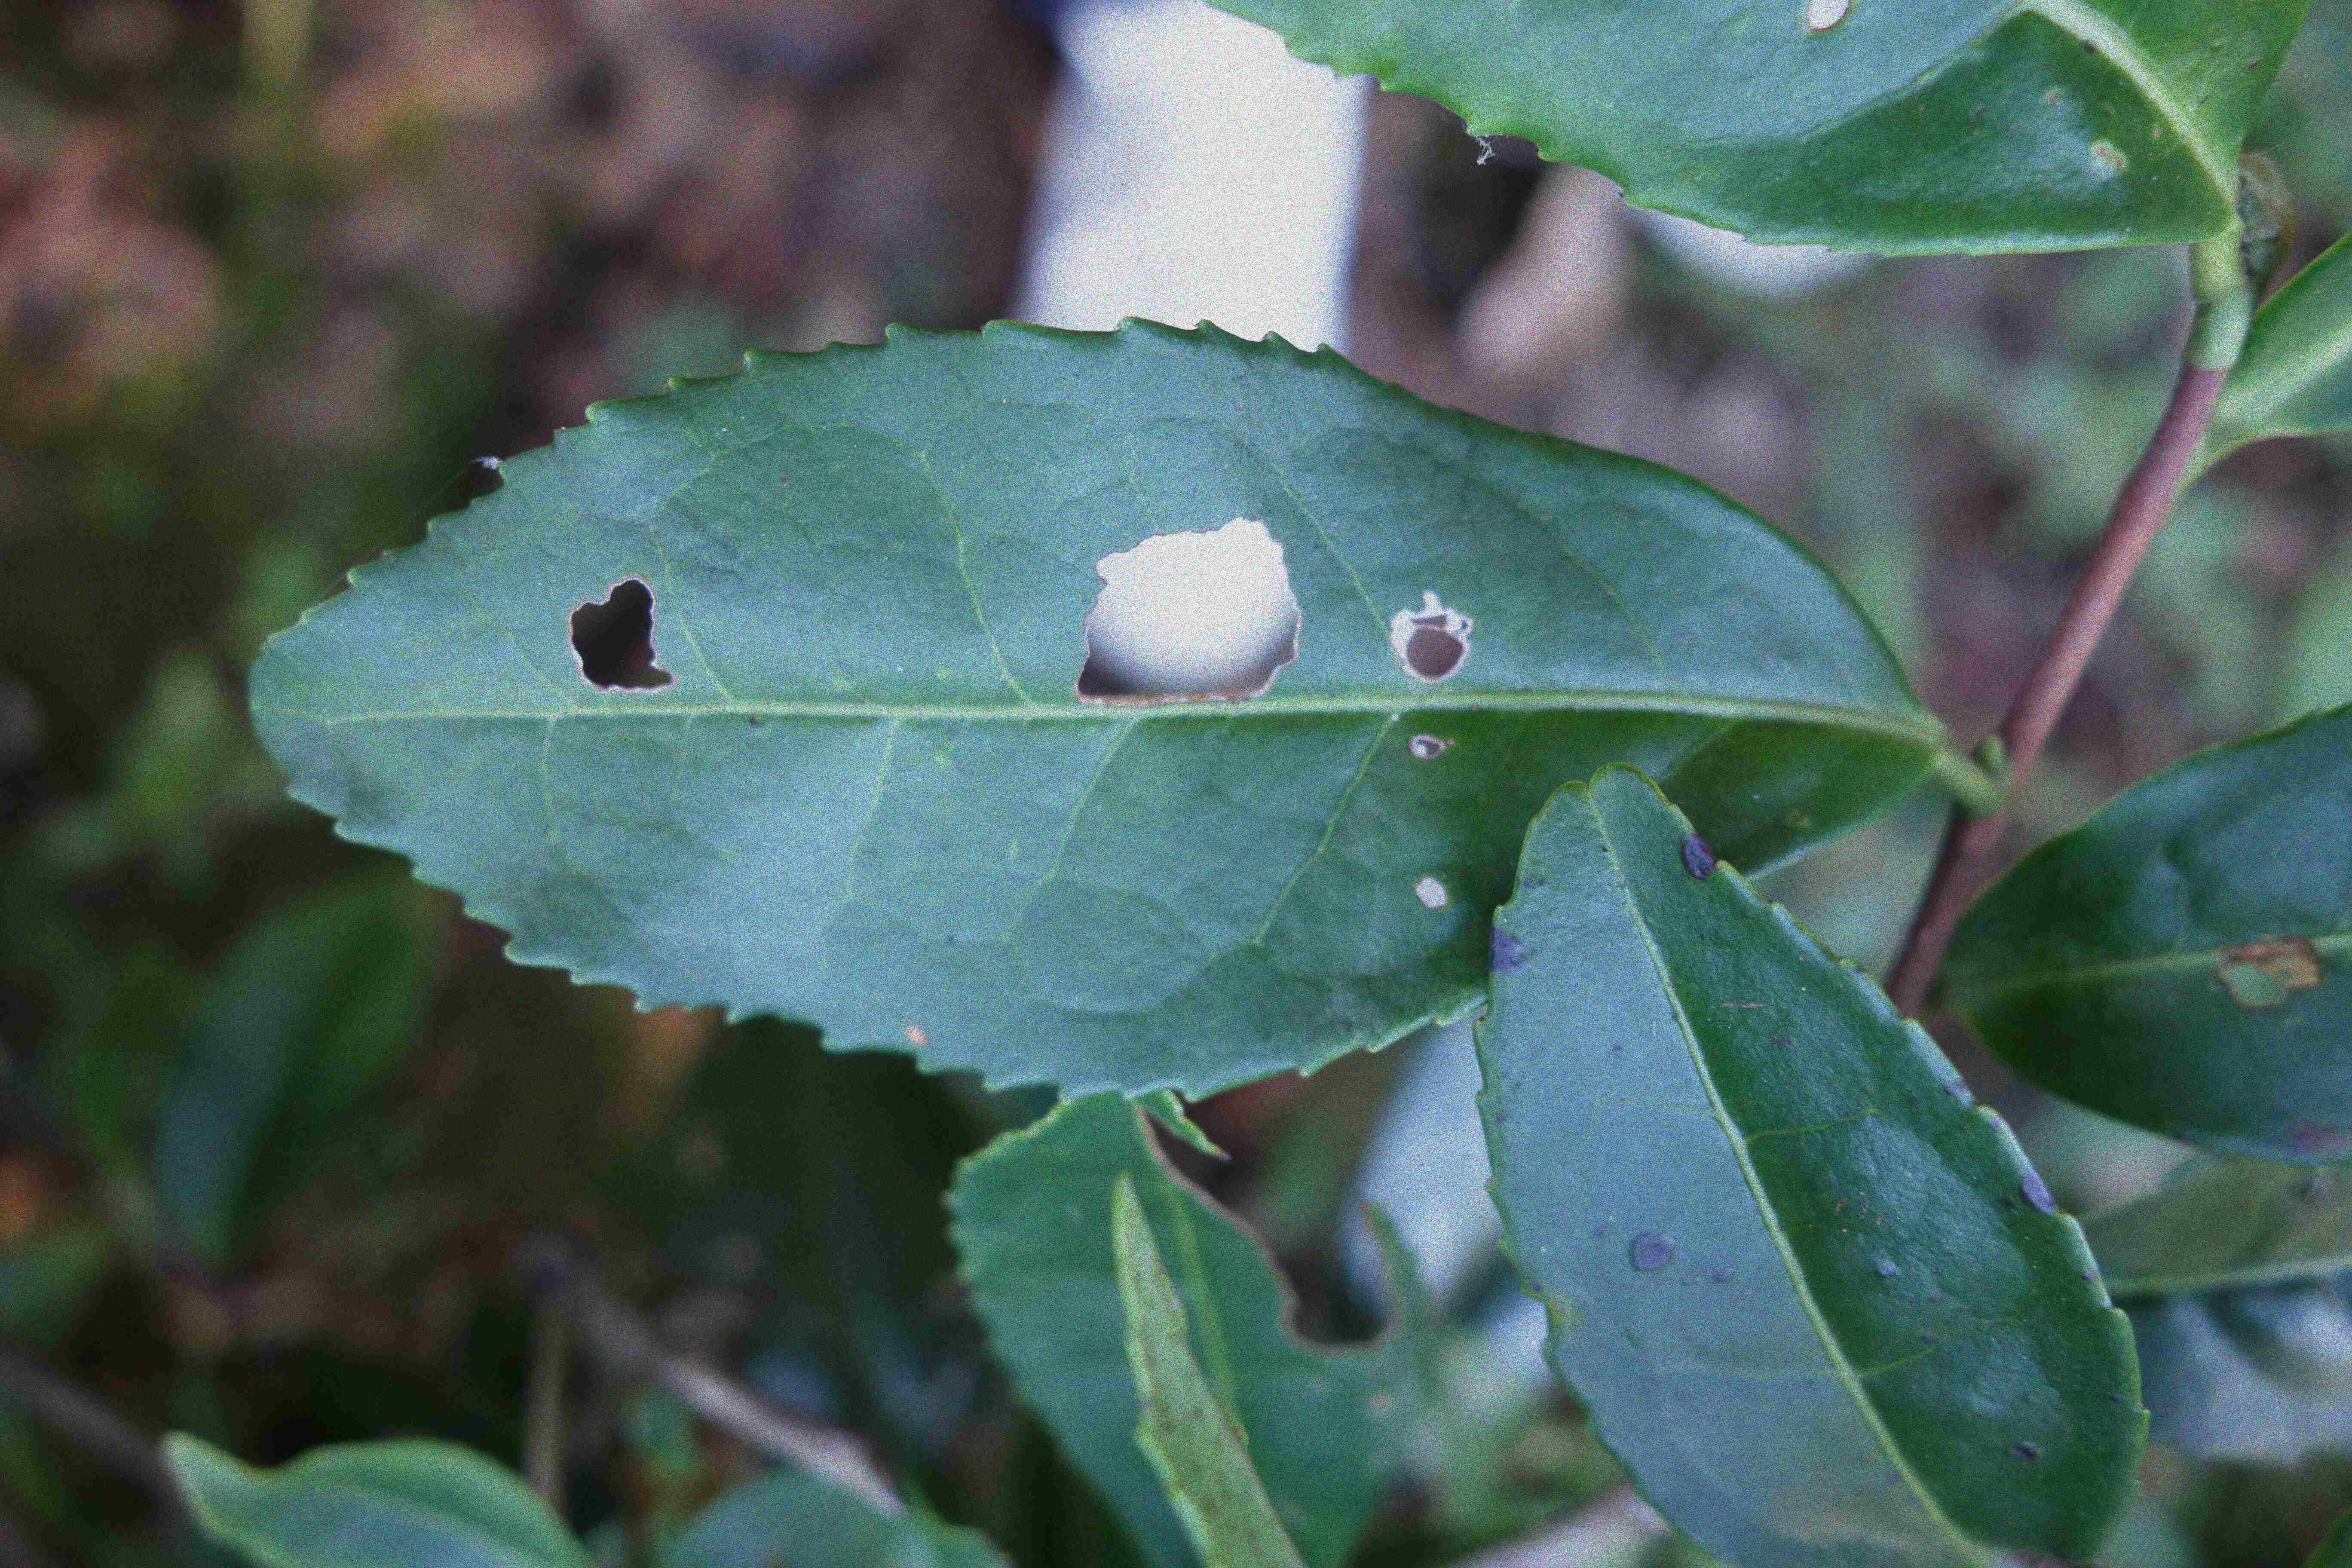chihuo_high: (241, 308, 1939, 1102)
